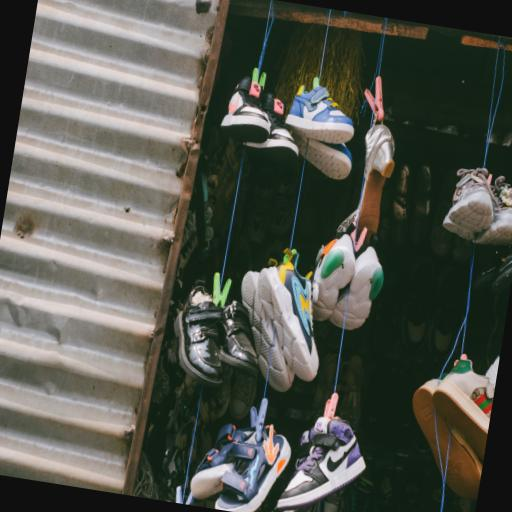shoe: (412, 379, 482, 499), (277, 417, 364, 509), (257, 250, 318, 381), (432, 355, 494, 460), (215, 426, 290, 511), (240, 272, 293, 391), (173, 286, 221, 385), (190, 424, 253, 499), (329, 245, 382, 330), (355, 124, 393, 242), (285, 78, 353, 143), (442, 168, 494, 240), (312, 234, 355, 320), (220, 69, 269, 143), (246, 93, 297, 164), (427, 267, 466, 357), (400, 257, 434, 350), (367, 269, 401, 356), (257, 311, 293, 391), (218, 301, 256, 375), (293, 134, 351, 179), (474, 176, 511, 245), (429, 170, 456, 257), (336, 355, 363, 430), (240, 271, 261, 356), (313, 354, 342, 415), (409, 165, 431, 245), (389, 164, 410, 246), (370, 460, 398, 511), (208, 365, 232, 422), (228, 373, 256, 420), (343, 466, 372, 511), (266, 197, 294, 235), (246, 200, 270, 243), (471, 257, 501, 291), (397, 467, 420, 511), (490, 249, 511, 294), (260, 238, 284, 268), (317, 487, 344, 511), (450, 234, 470, 264), (485, 356, 499, 388), (156, 498, 178, 512), (453, 498, 471, 511), (298, 506, 315, 511), (189, 500, 202, 506), (272, 509, 304, 511)
